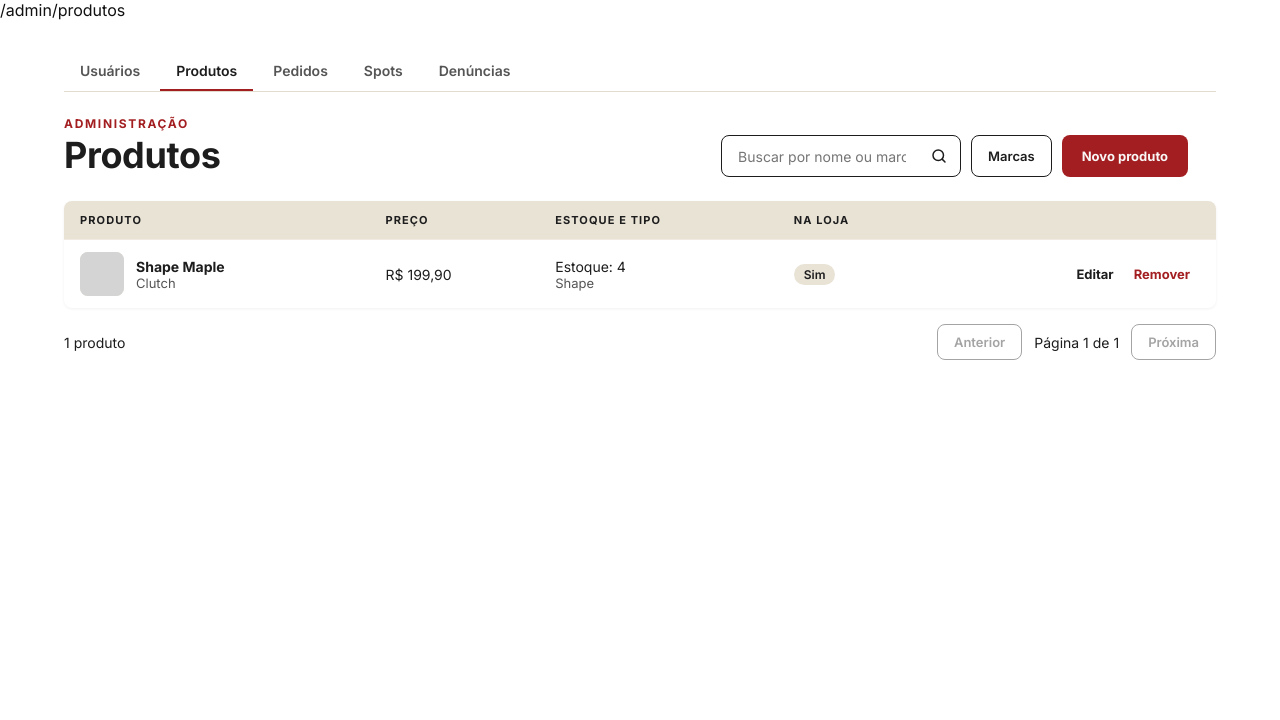
it: Painel: fotos do produto › com 5 fotos, não deixa colocar outra
The image size is (1280, 720).
Click the button "Editar" at (1095, 274), box [1066, 260, 1124, 288]
(page scrolled)
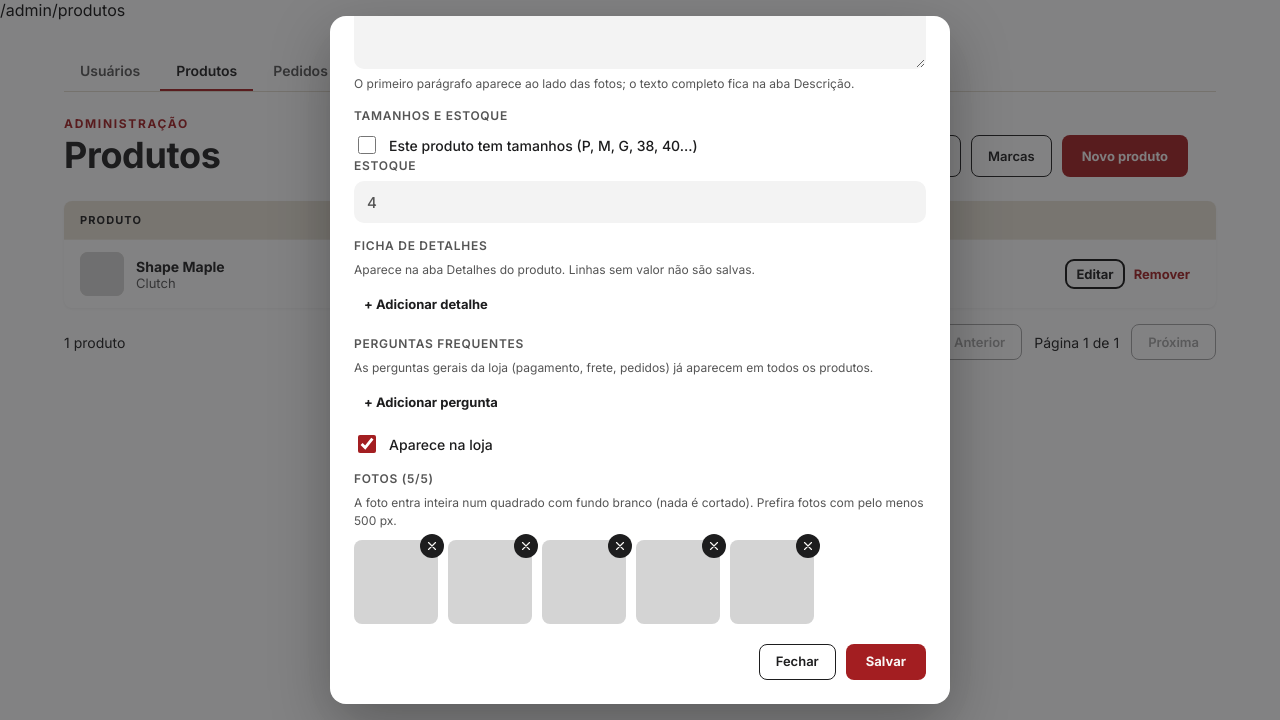
Expected: the text "Fotos (5/5)" is shown, [354, 470, 434, 488]
